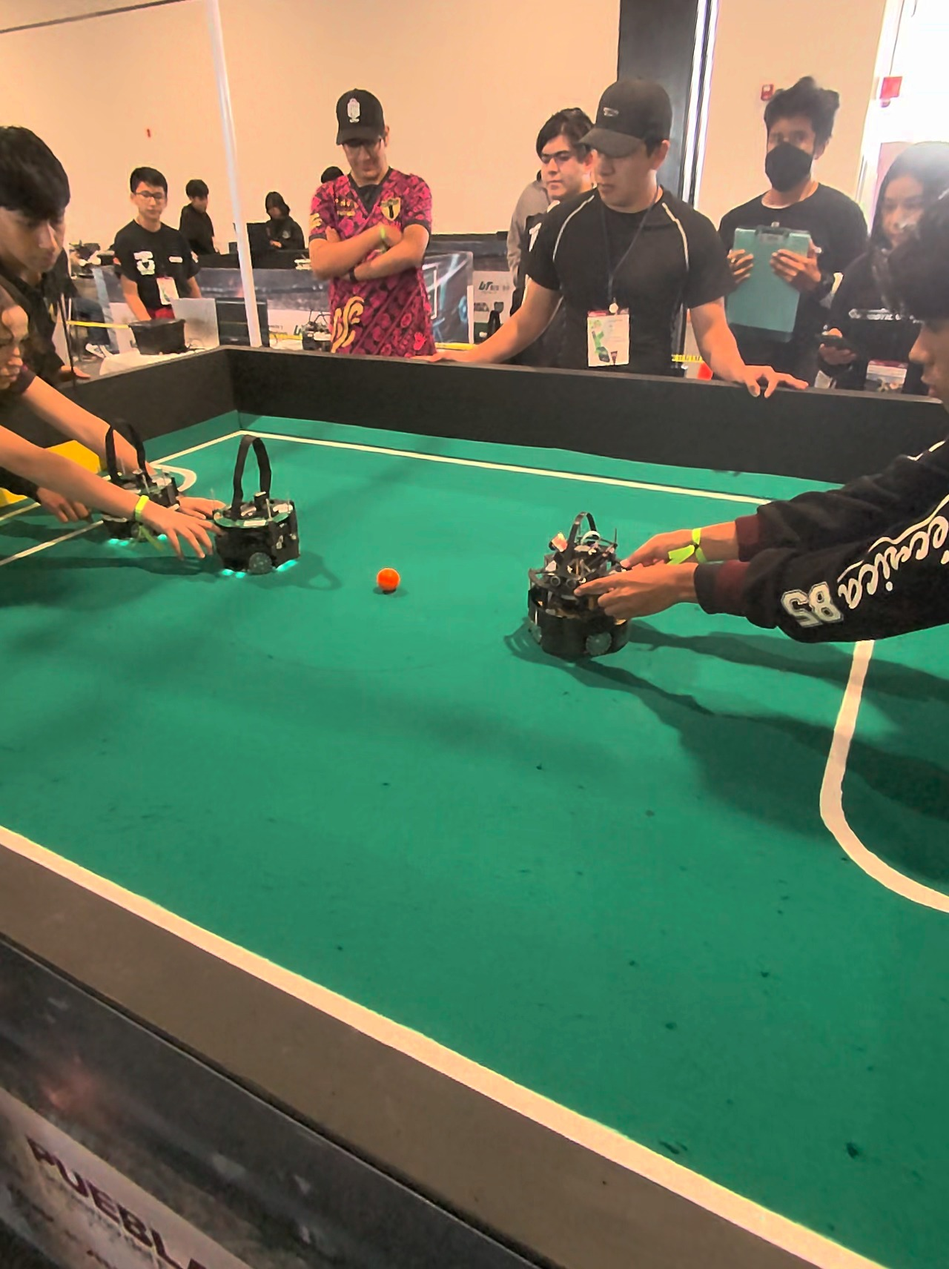Robot: (527, 508, 633, 673), (205, 420, 308, 588), (90, 414, 176, 545)
pelota: (375, 567, 402, 594)
